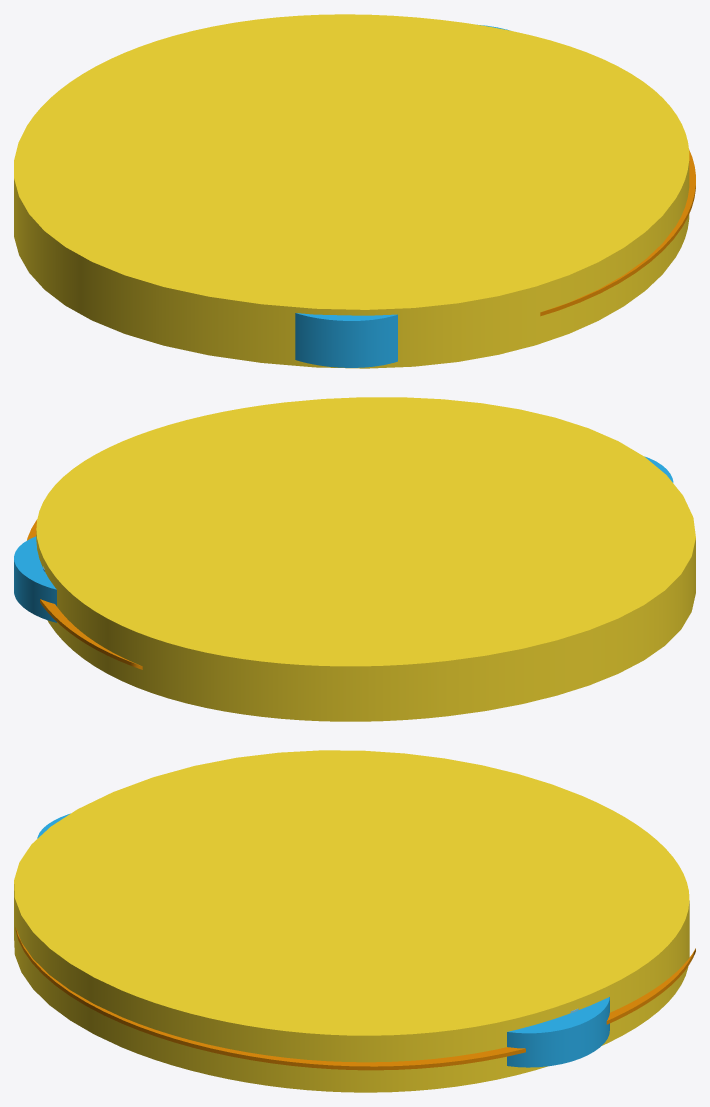
File: emoji_u1f923.glb
3 renders of one model, top to bottom at view 1: azimuth 30°, elevation 25°; view 2: azimuth 150°, elevation 25°; view 3: azimuth 270°, elevation 25°, orthographic. The views are drawn at different scales.
Parts seen in each view (by area): view 1: emoji_u1f923; view 2: emoji_u1f923; view 3: emoji_u1f923.
Boxes of the visible parts, left/top/right/bottom form: emoji_u1f923: left=14, top=14, right=695, bottom=368; emoji_u1f923: left=14, top=397, right=695, bottom=721; emoji_u1f923: left=14, top=750, right=695, bottom=1092.
Bounding box in the file's own units: 0.0327 × 0.003 × 0.0326.
